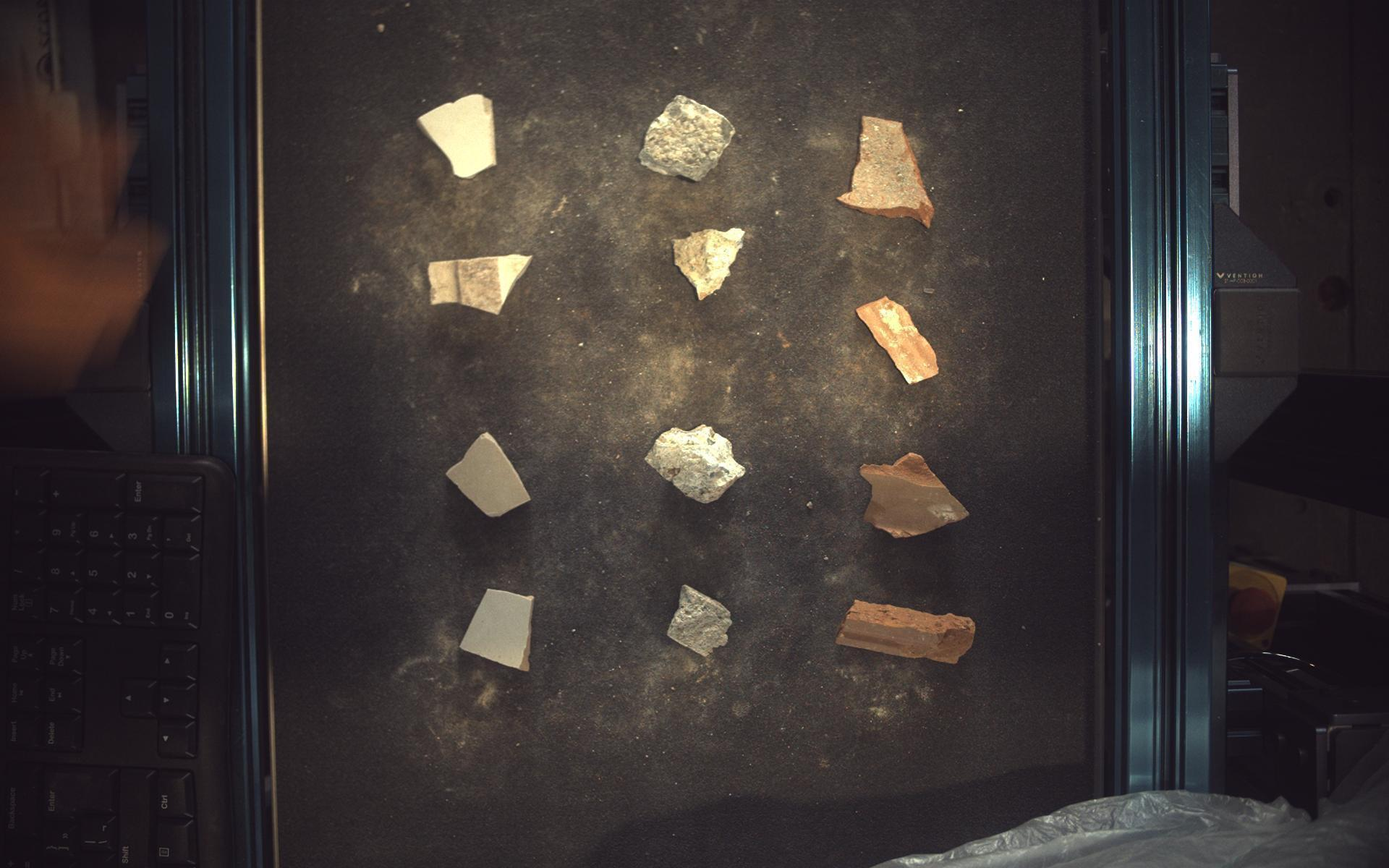brick: (840, 115, 936, 226), (862, 453, 971, 538), (838, 601, 977, 665), (859, 297, 940, 383)
concrete: (640, 94, 736, 180), (646, 425, 746, 503), (674, 227, 745, 299), (668, 585, 733, 658)
tile: (446, 432, 530, 517), (417, 93, 496, 177), (429, 254, 532, 314), (460, 590, 535, 672)
